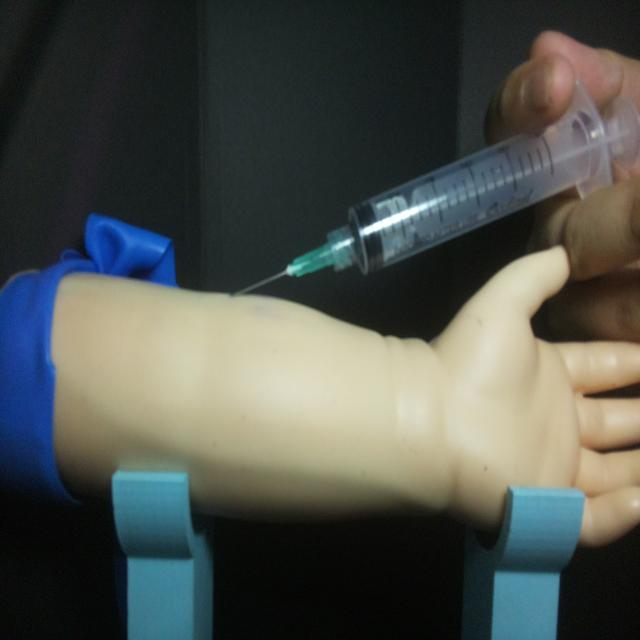20deg: (228, 74, 637, 300)
